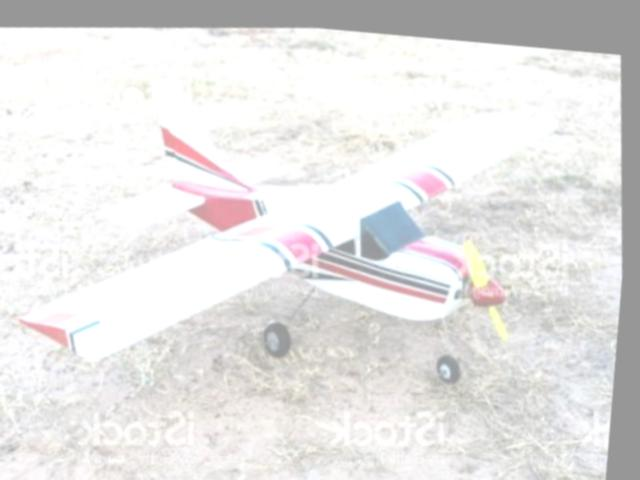uav: (0, 30, 583, 416)
